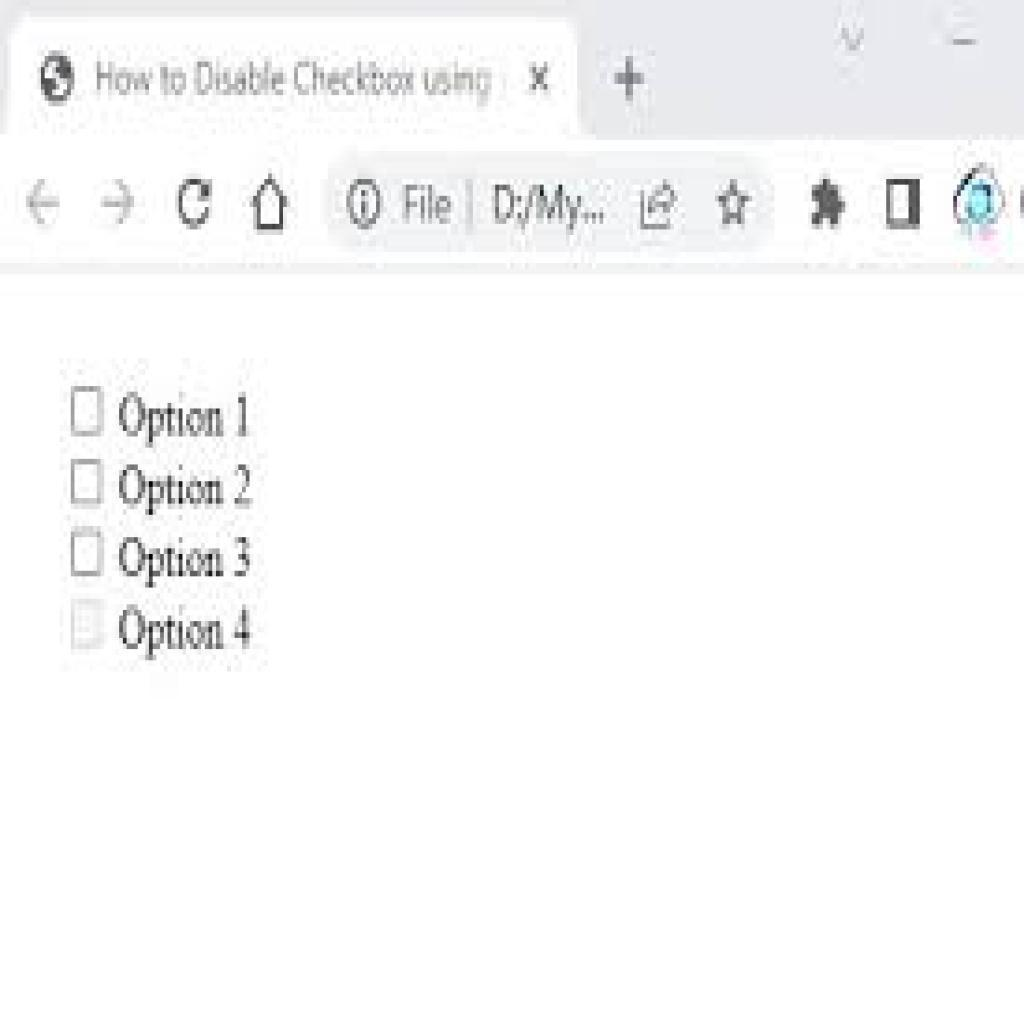checkbox: (73, 386, 107, 438), (71, 530, 107, 578), (71, 458, 105, 507), (71, 604, 105, 651)
icon: (882, 174, 931, 236), (634, 180, 682, 236), (250, 171, 292, 233), (344, 175, 386, 234), (174, 175, 215, 233), (714, 177, 755, 235), (610, 54, 653, 109), (24, 171, 62, 233), (100, 171, 139, 231), (40, 51, 80, 109), (807, 177, 846, 236), (950, 27, 986, 57), (525, 62, 553, 96)
label: (118, 384, 255, 450), (115, 604, 261, 664), (117, 531, 259, 590), (120, 460, 258, 518)
